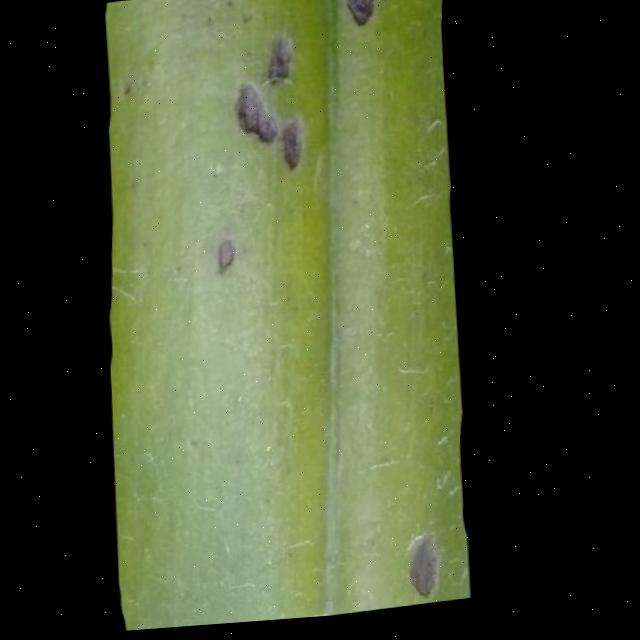mite: (225, 0, 391, 183), (234, 82, 281, 150), (265, 34, 298, 91), (280, 120, 308, 175)
sunburn: (403, 535, 447, 611), (343, 0, 382, 38)
